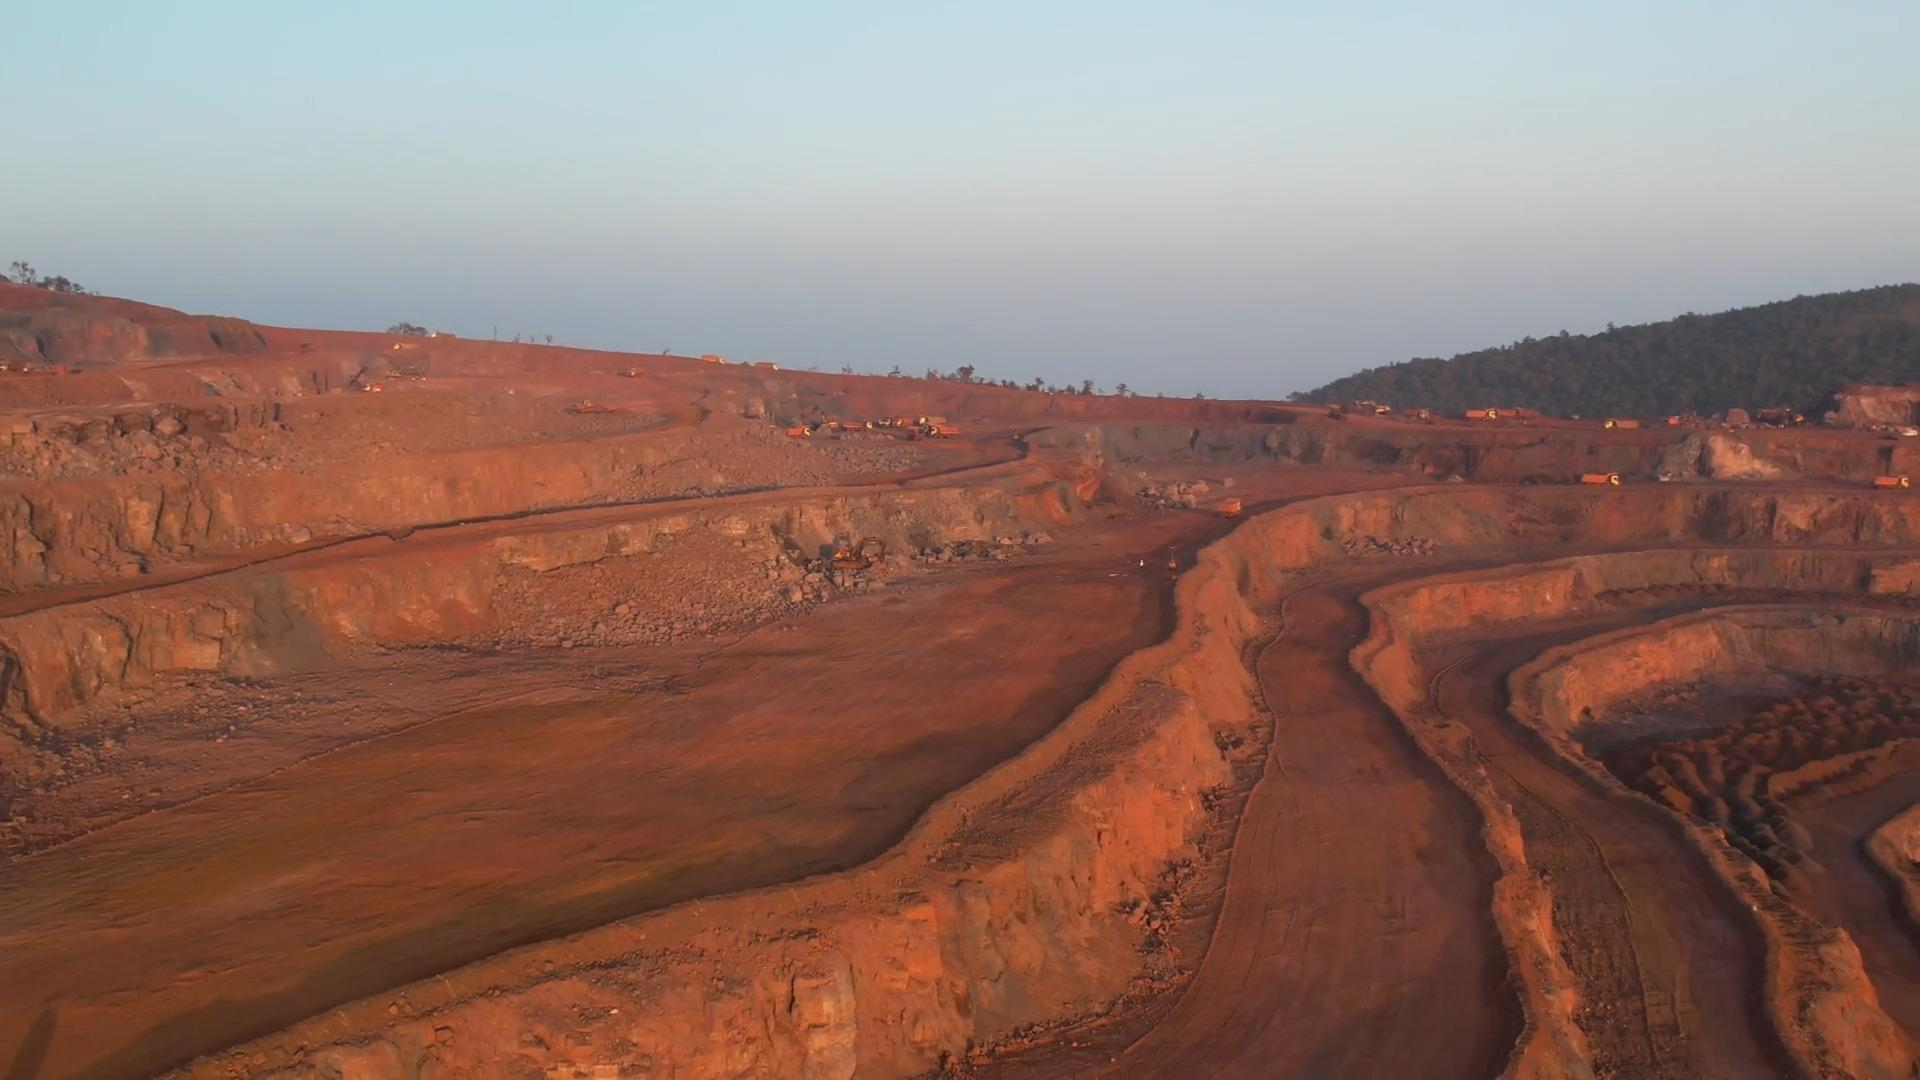excavator: (832, 537, 887, 568)
